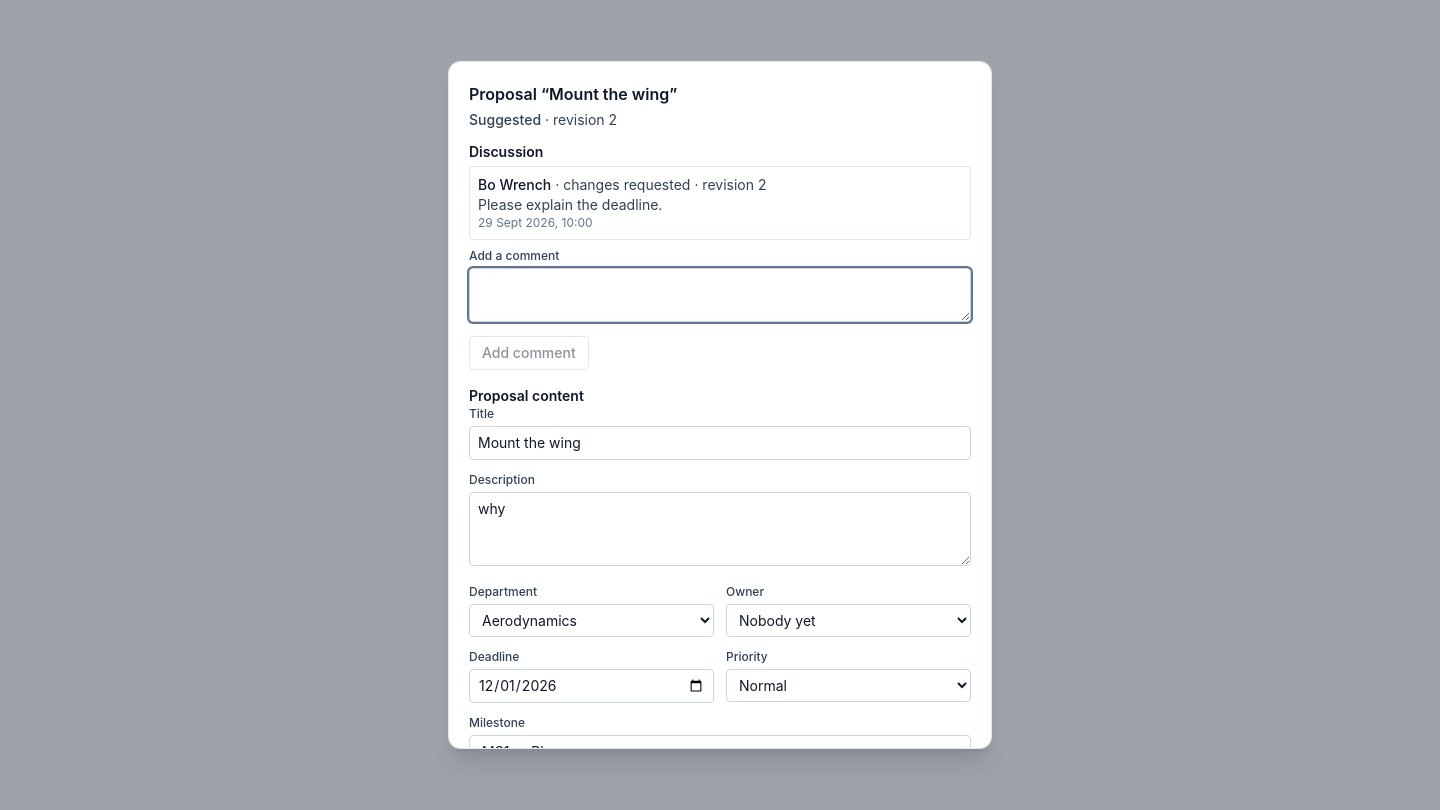
Test: ReviewDialog permissions and states › lets the author revise but does not show review actions
Select "Urgent" in the dropdown labelled "Priority": (848, 685) [726,669,971,702]
(page scrolled)
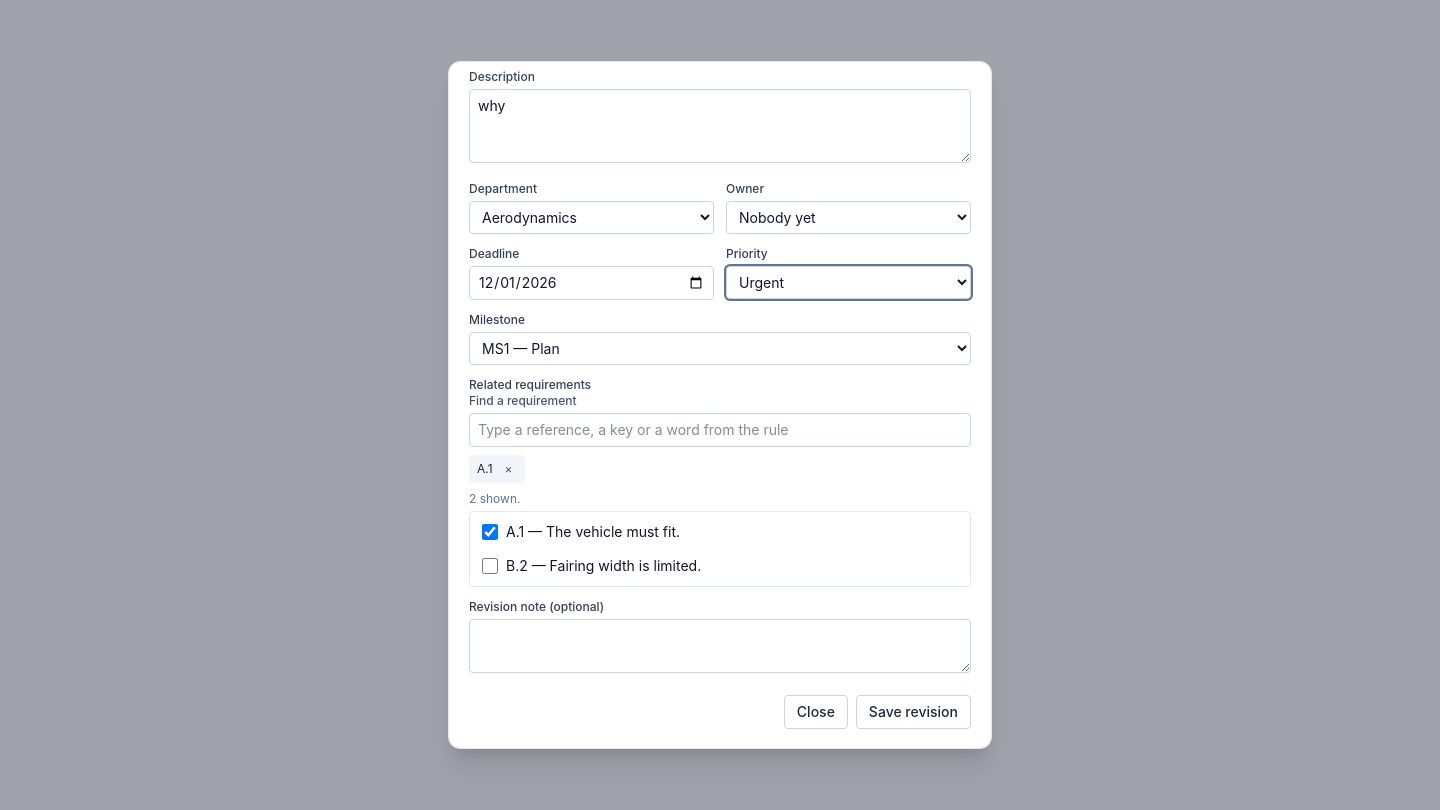
Now the button with test id "review-save" is enabled, box [856,695,971,729]
